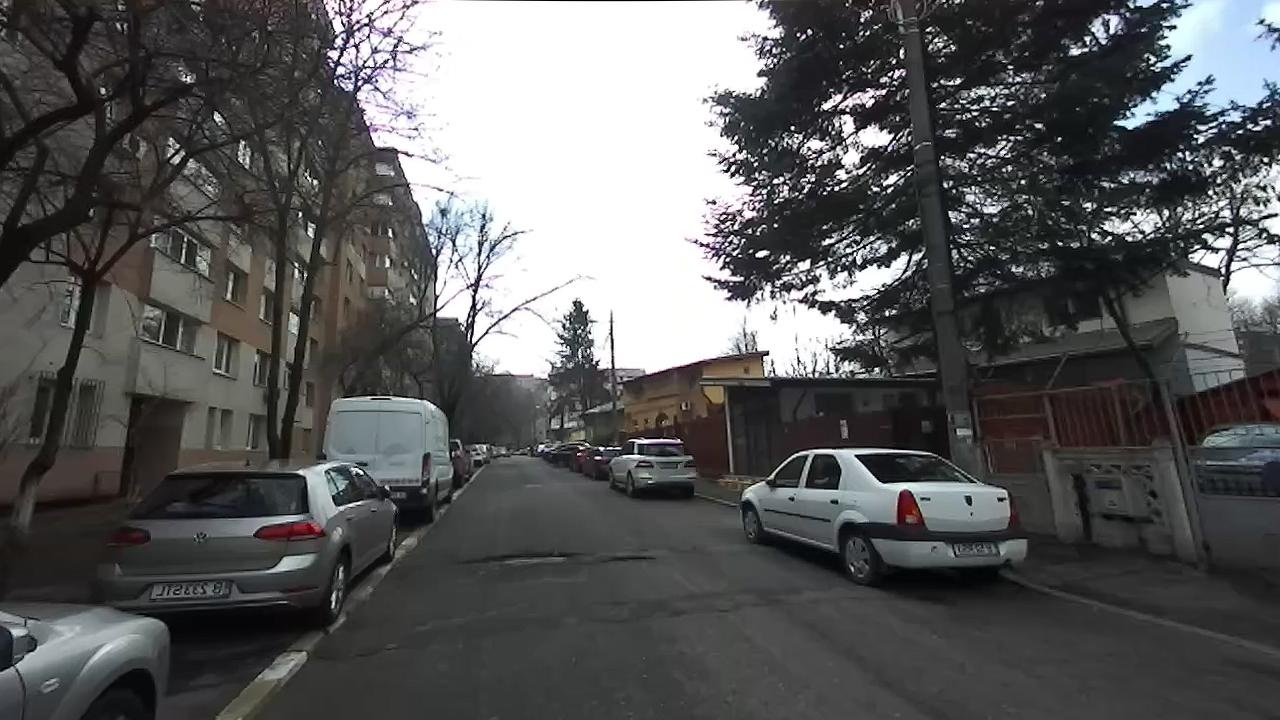pothole: (451, 550, 581, 572), (595, 551, 658, 564)
